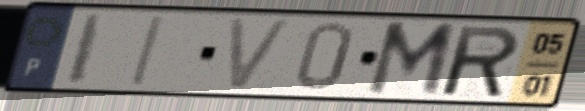0: (291, 20, 356, 94)
I: (63, 12, 110, 88), (126, 14, 170, 90)
M: (362, 20, 460, 100)
R: (440, 24, 523, 100)
V: (225, 15, 298, 93)
